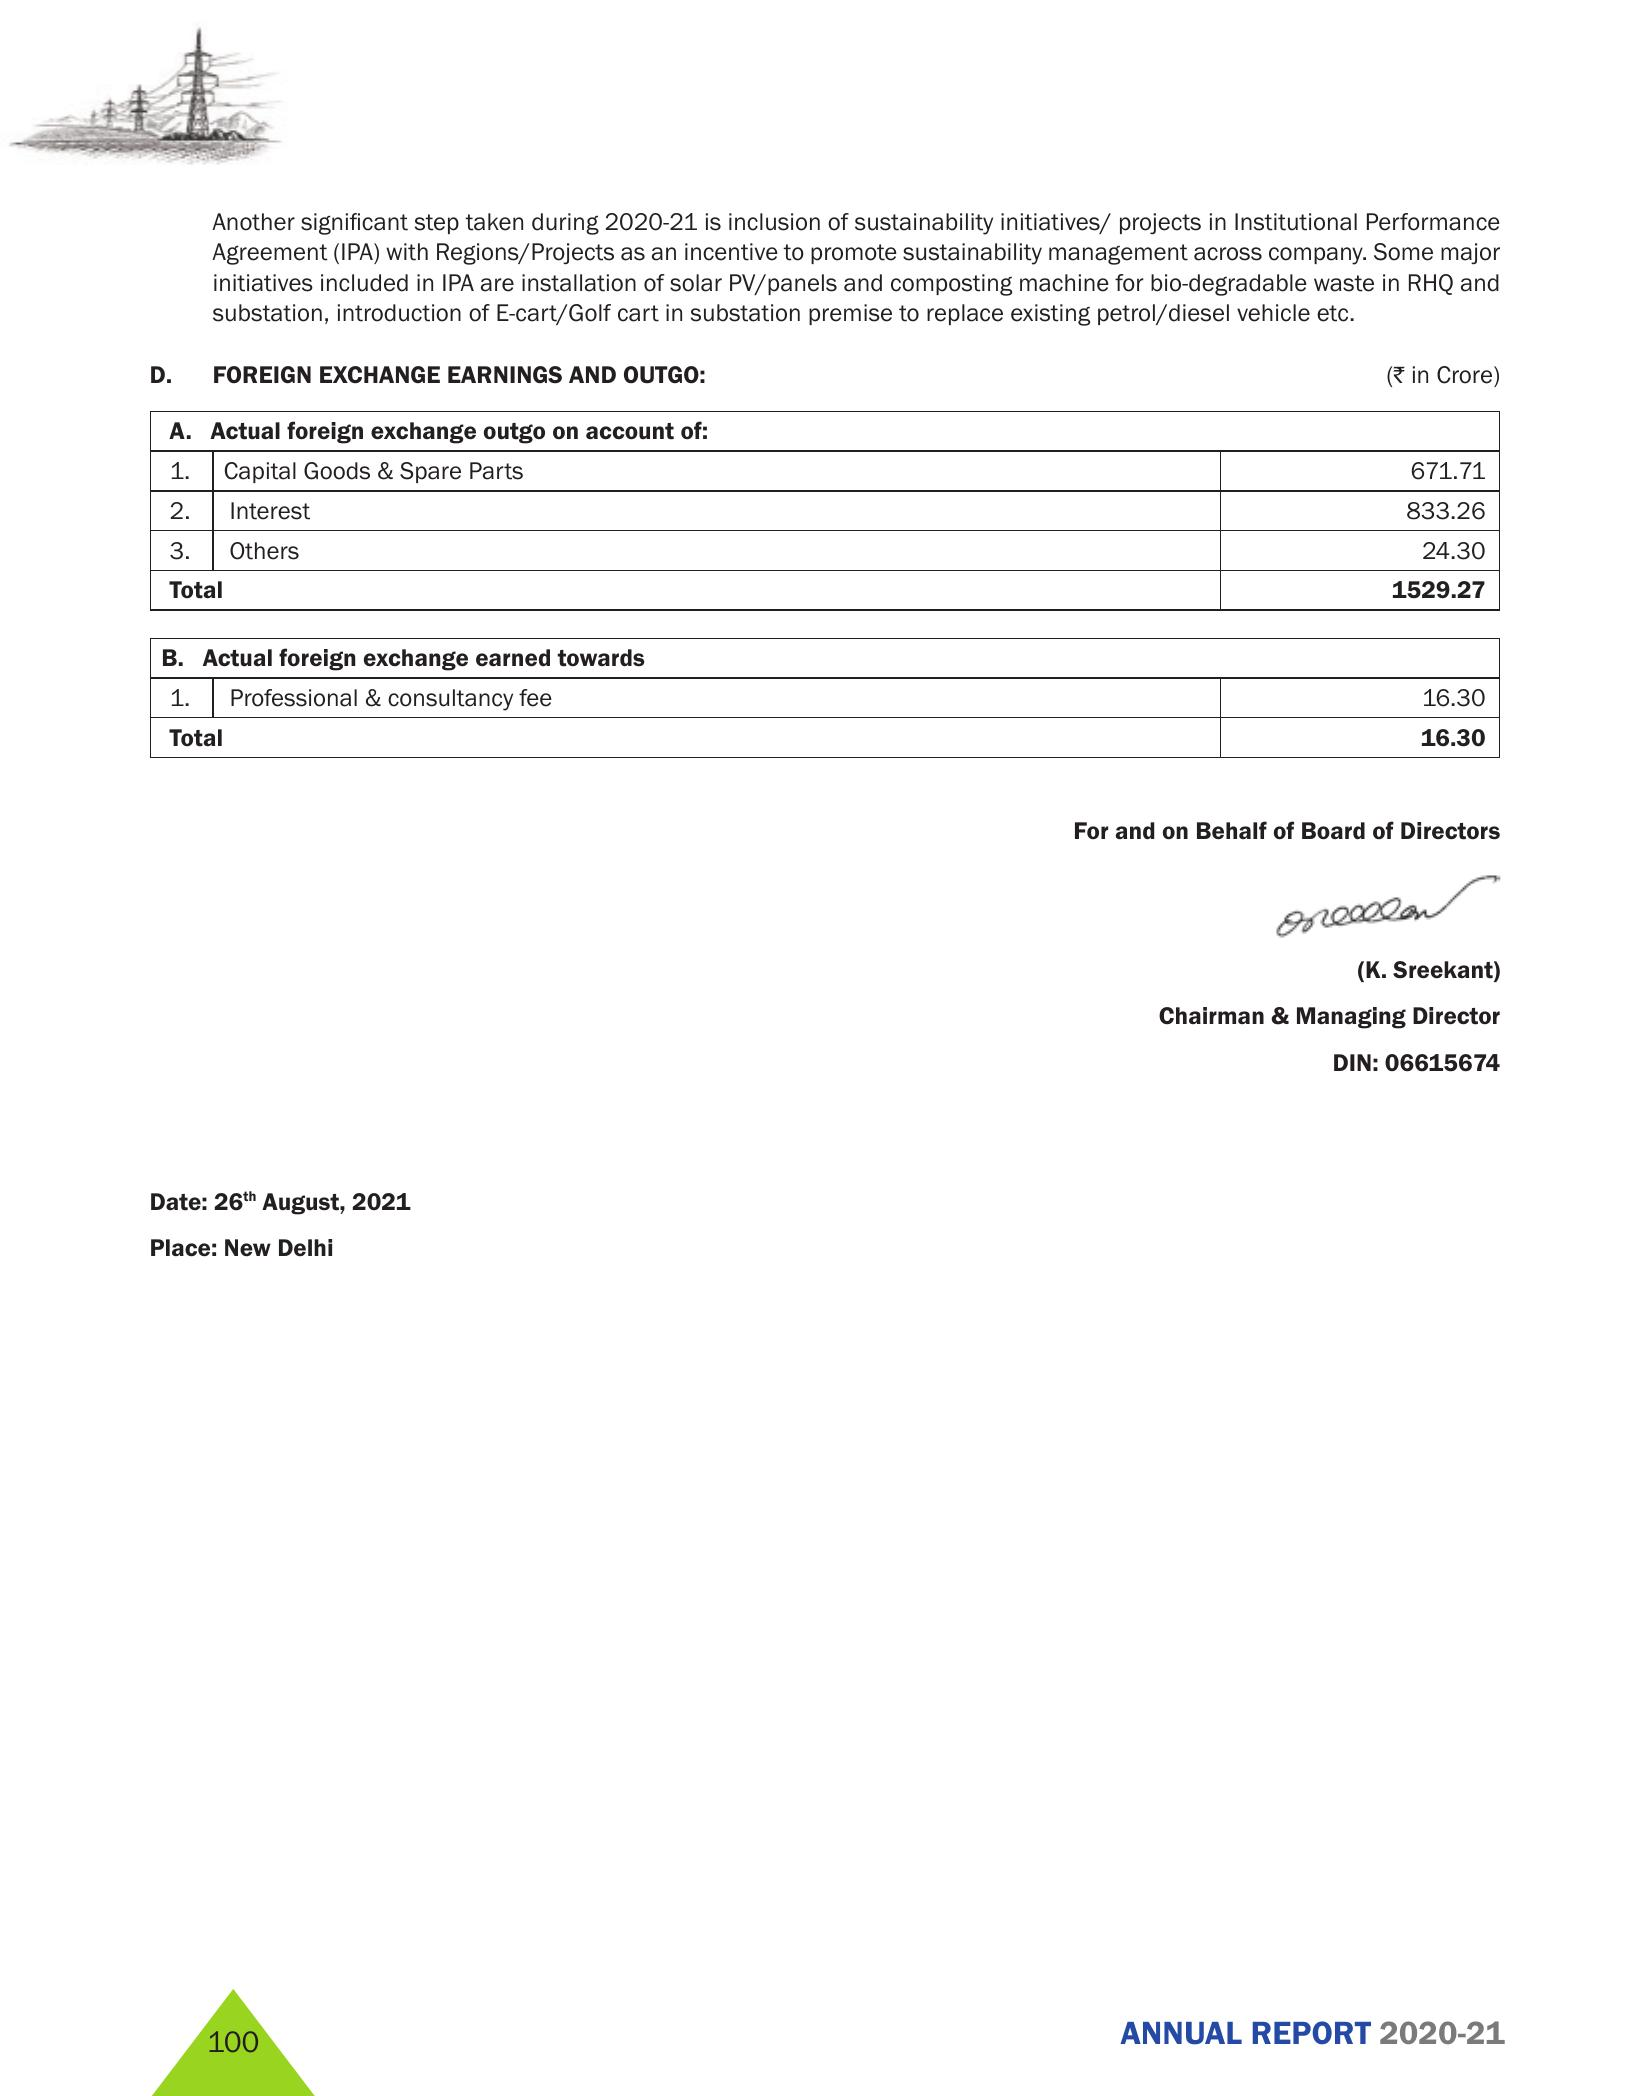Footer: (0, 1968, 1650, 2096)
Header: (0, 0, 1650, 172)
Table: (85, 388, 1548, 609), (90, 624, 1545, 779)
